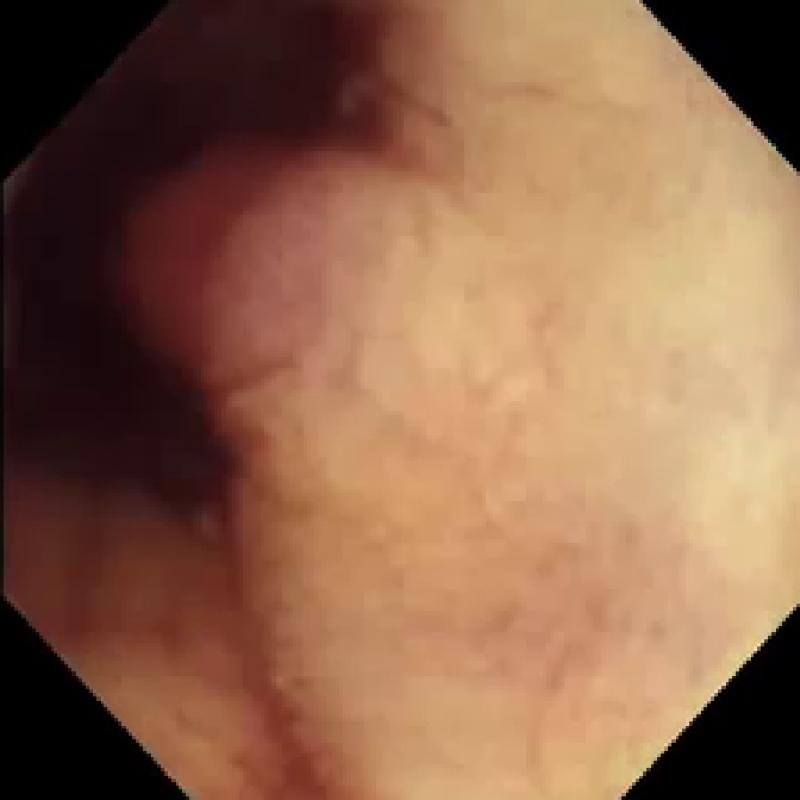bleeding: (11, 0, 407, 504)
